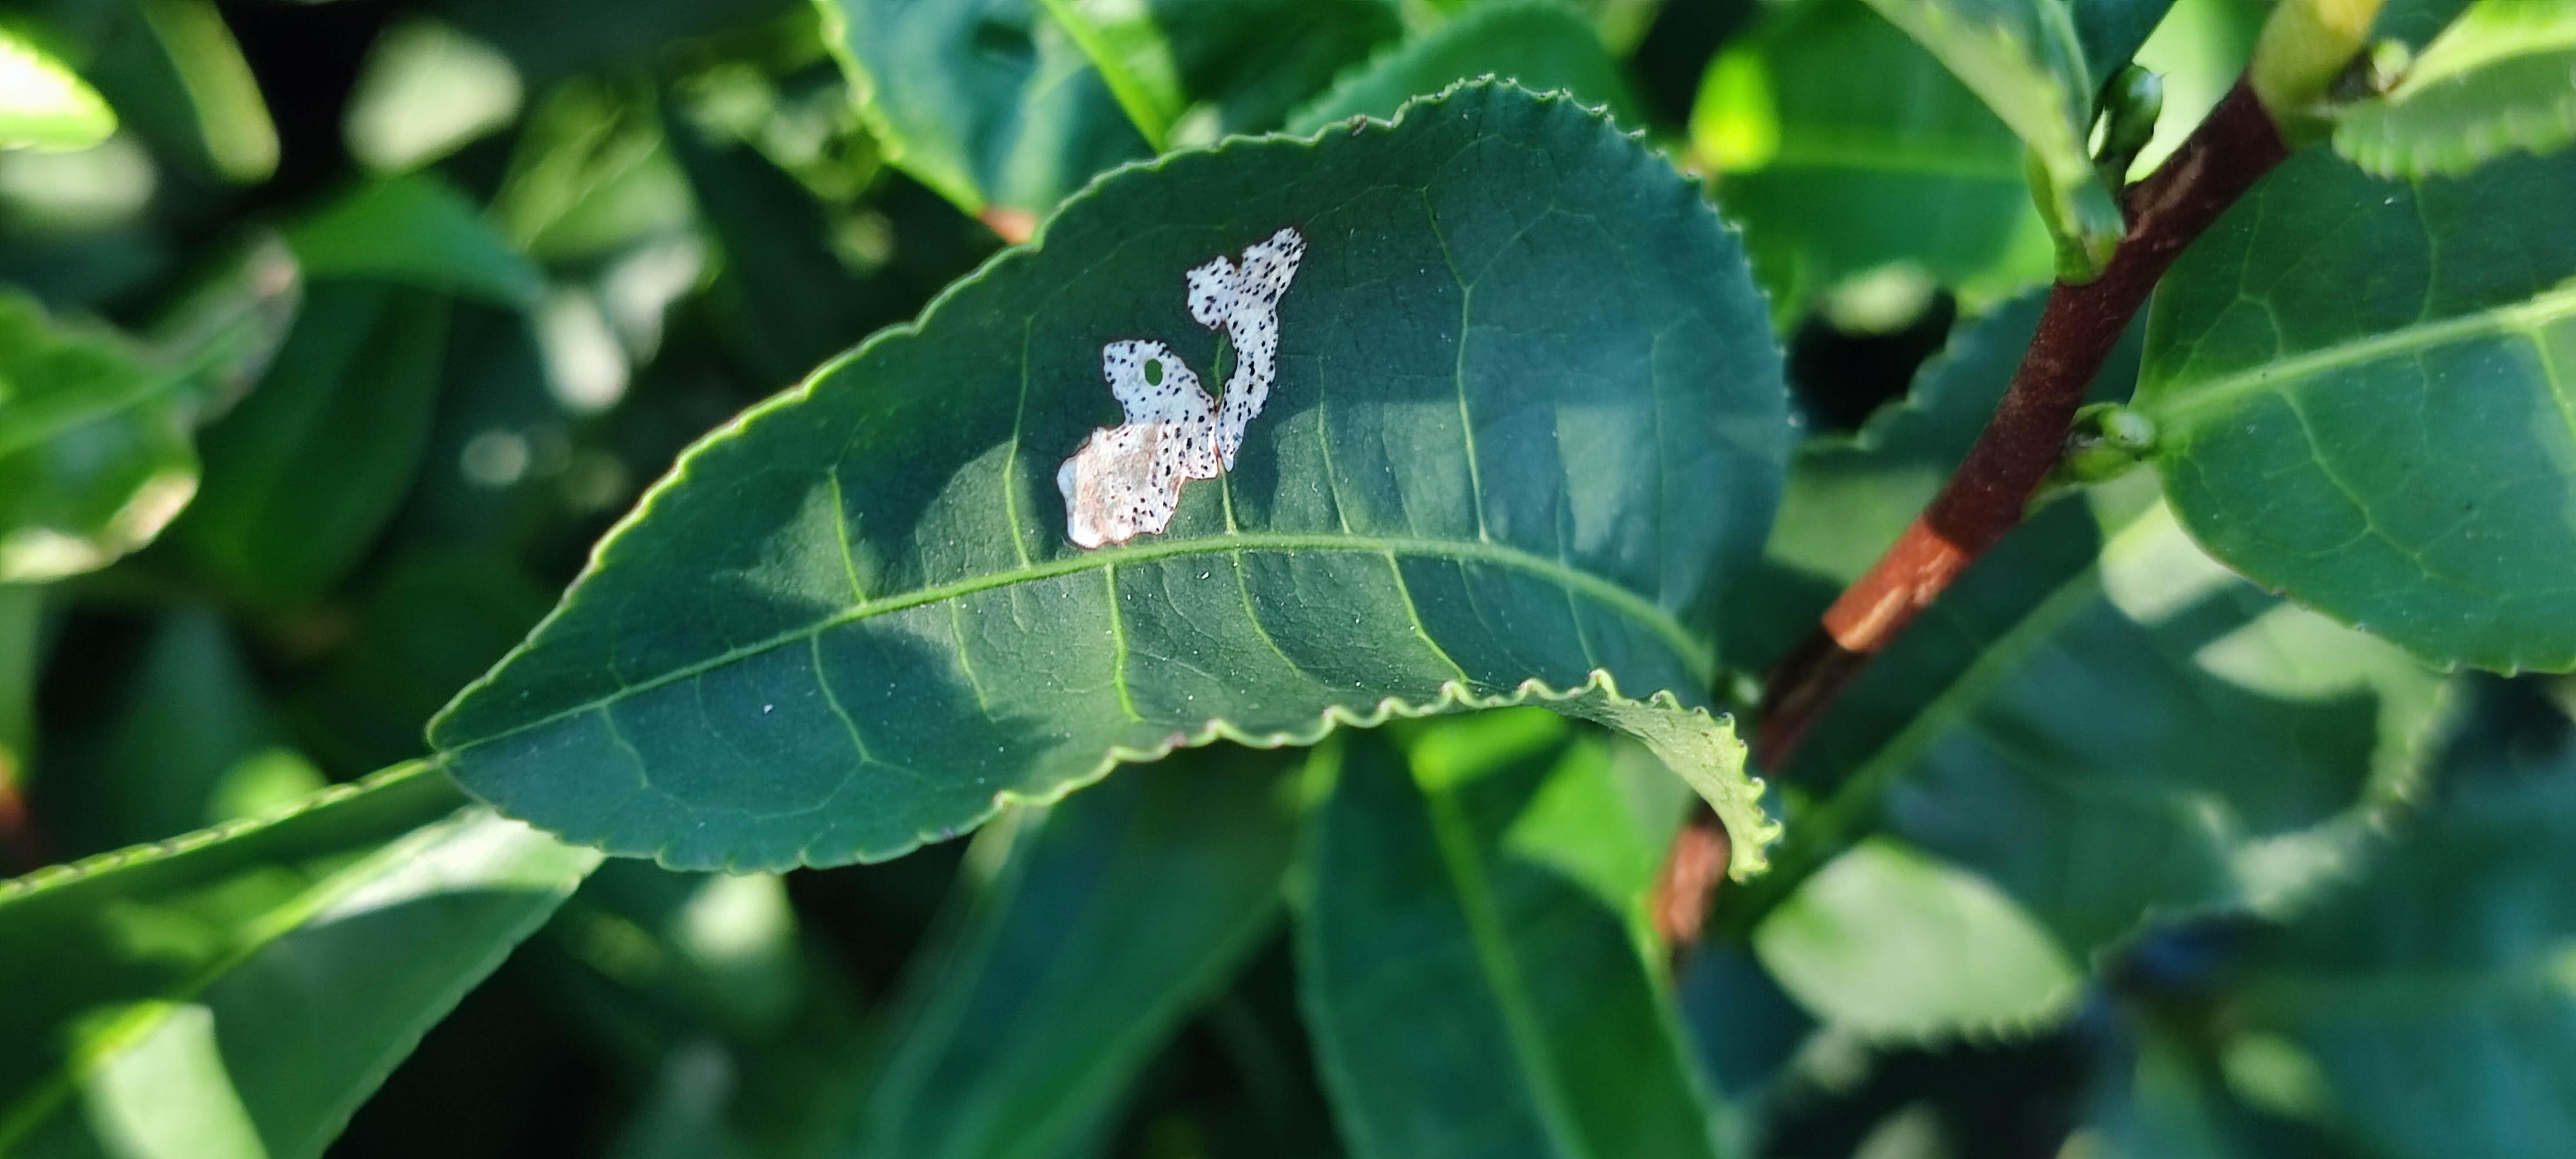tanju_high: (432, 77, 1799, 885)
